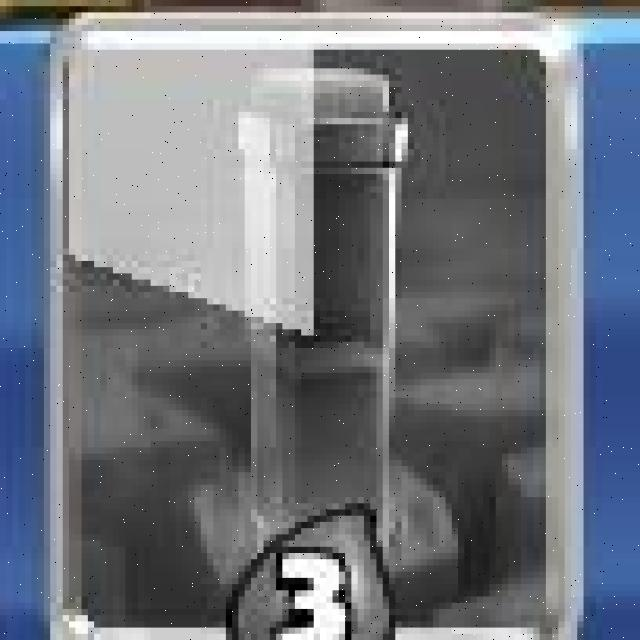Earthquake: (48, 15, 588, 640)
